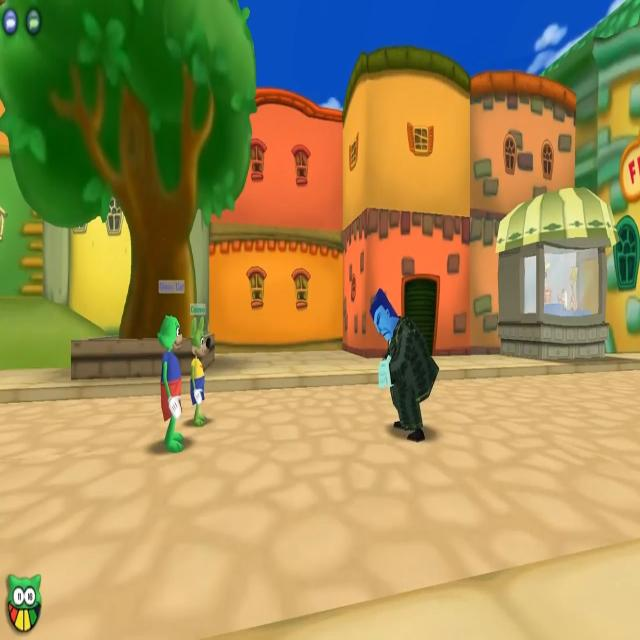shortchange: (372, 278, 439, 441)
